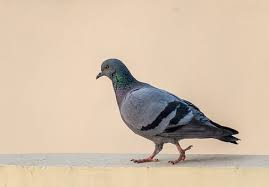Walking: (69, 29, 249, 169)
